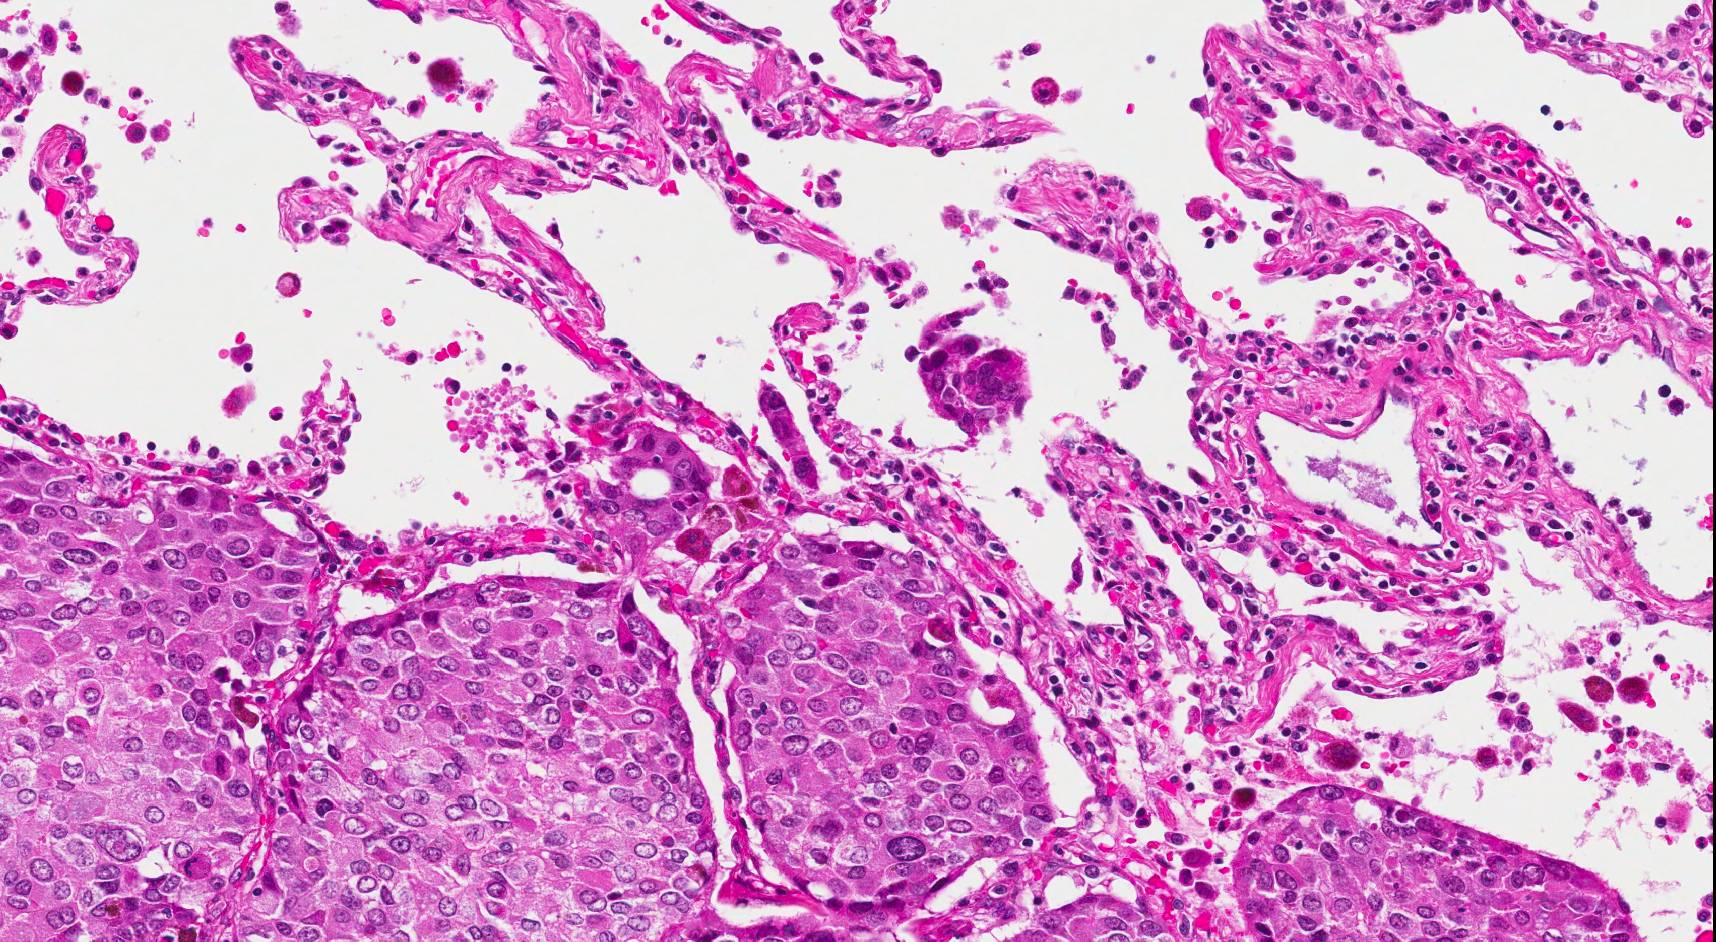stas: (920, 329, 1029, 434), (751, 383, 829, 489)
